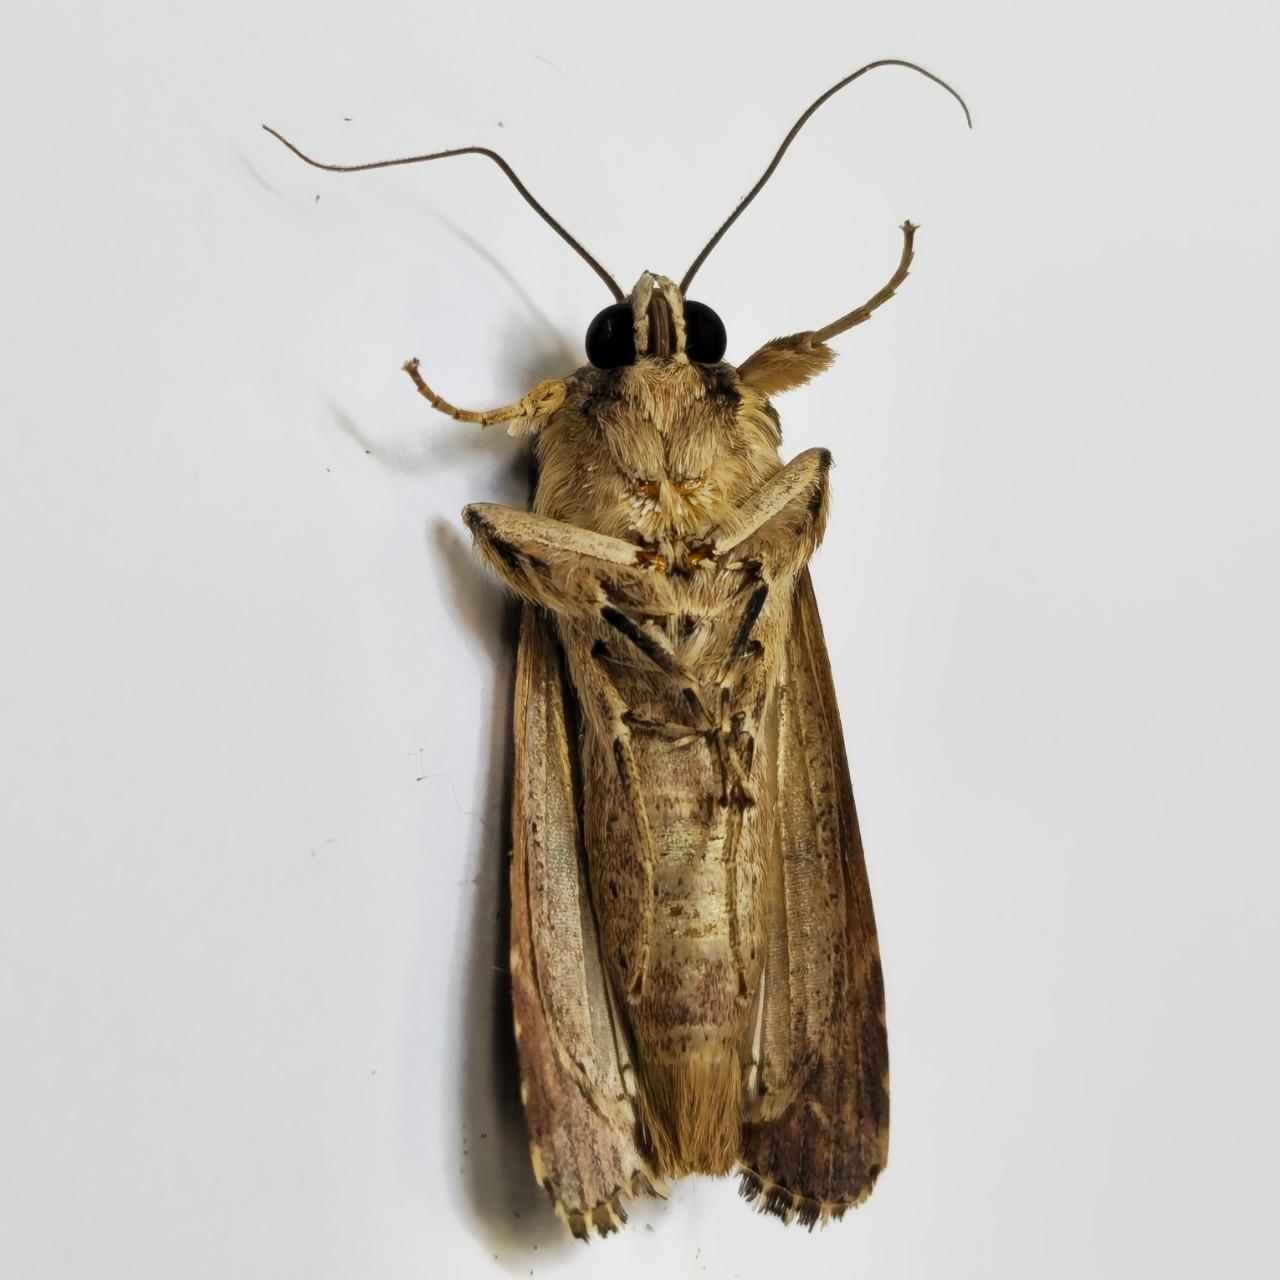Spodoptera litura: (261, 59, 972, 1242)
